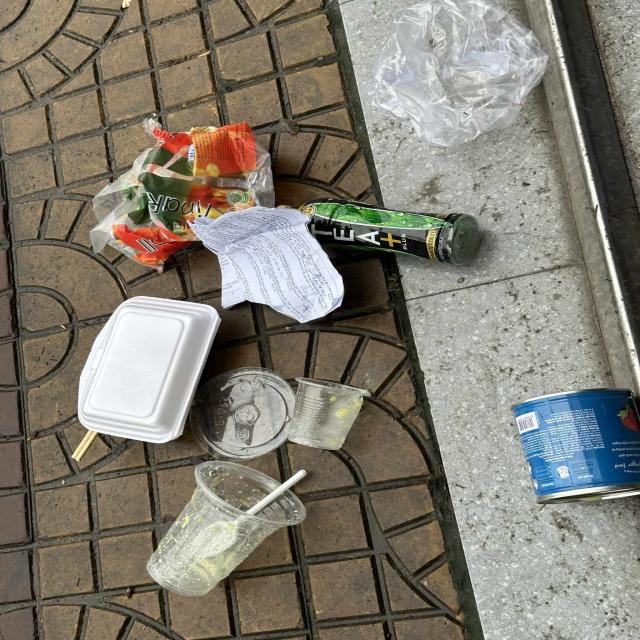bag: (88, 116, 276, 276), (366, 0, 550, 148), (76, 295, 223, 445)
bottle: (275, 197, 480, 266)
can: (509, 387, 640, 505)
lid: (188, 366, 297, 462)
paper: (184, 205, 346, 325)
plastic glass: (144, 459, 308, 599), (287, 375, 373, 451)
plastic utensil: (190, 468, 308, 558)
